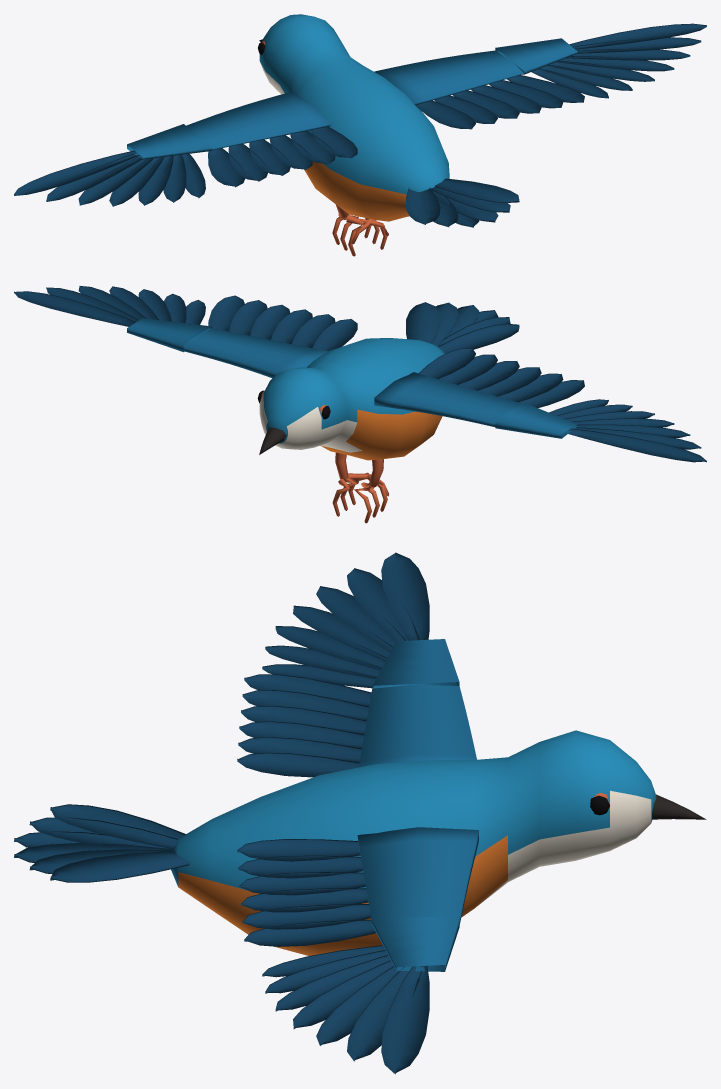
File: siegebird_songbird.glb
The picture shows the model from 3 angles, top to bottom: view 1: azimuth 30°, elevation 25°; view 2: azimuth 150°, elevation 25°; view 3: azimuth 270°, elevation 25°; orthographic projection. The views are drawn at different scales.
Visible parts, largest first — view 1: SongbirdBody, SongbirdWingL, SongbirdWingR, SongbirdWingL_Tip, SongbirdWingR_Tip; view 2: SongbirdBody, SongbirdWingL, SongbirdWingR, SongbirdWingL_Tip, SongbirdWingR_Tip; view 3: SongbirdBody, SongbirdWingR, SongbirdWingL, SongbirdWingR_Tip, SongbirdWingL_Tip.
Part boxes in pixels (x1,y1,x2,y2): SongbirdBody: (258, 14, 519, 256); SongbirdWingL: (186, 91, 357, 187); SongbirdWingR: (374, 50, 584, 129); SongbirdWingL_Tip: (14, 124, 212, 206); SongbirdWingR_Tip: (495, 23, 706, 98); SongbirdBody: (257, 302, 519, 523); SongbirdWingL: (374, 348, 584, 426); SongbirdWingR: (183, 295, 357, 378); SongbirdWingL_Tip: (495, 399, 706, 462); SongbirdWingR_Tip: (14, 286, 212, 352); SongbirdBody: (14, 730, 706, 955); SongbirdWingR: (237, 827, 478, 946); SongbirdWingL: (237, 674, 476, 777); SongbirdWingR_Tip: (262, 915, 459, 1074); SongbirdWingL_Tip: (262, 552, 459, 688).
Bounding box in the file's own units: 0.5069 × 0.1311 × 0.2857.
1 material, 1 textured.
